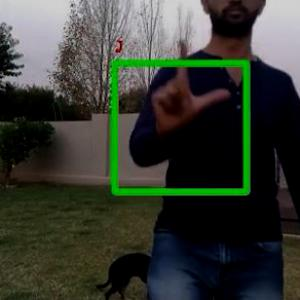land_hand: (149, 42, 230, 135)
